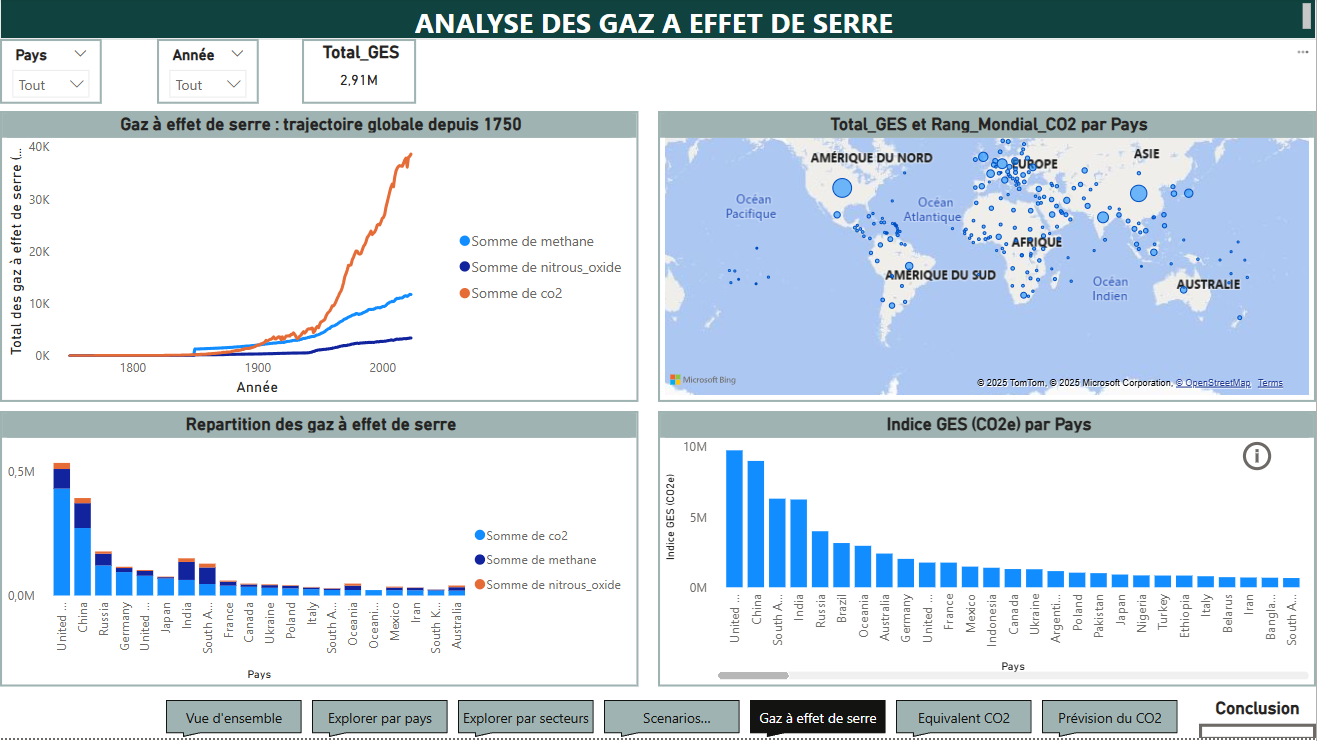

This screenshot's page, from the dashboard's own definition file:
{"tool":"powerbi","page":{"name":"Gaz à effet de serre","canvas":[1280,720],"ordinal":4},"visuals":[{"type":"lineChart","title":"Gaz à effet de serre : trajectoire globale depuis 1750","fields":{"Category":["Data.Année"],"Y":["Sum(Data.methane)","Sum(Data.nitrous_oxide)","Sum(Data.co2)"]},"box":[0,109.9,620.5,283],"z":0},{"type":"clusteredColumnChart","fields":{"Category":["Data.Pays"],"Y":["DAX.Indice GES (CO2e)"]},"box":[640,401.7,640,268.4],"z":0,"group":"g1"},{"type":"textbox","box":[0,0,1280,39.9],"z":1000},{"type":"actionButton","box":[1204.3,426.8,42.8,37],"z":1000,"group":"g1"},{"type":"slicer","fields":{"Values":["Data.Pays"]},"box":[0,39.9,99.2,63.2],"z":2000},{"type":"columnChart","title":"Repartition des gaz à effet de serre","fields":{"Category":["Data.Pays"],"Y":["Sum(Data.co2)","Sum(Data.methane)","Sum(Data.nitrous_oxide)"]},"box":[0,401.7,620.5,268.4],"z":3000},{"type":"slicer","fields":{"Values":["Data.Année"]},"box":[152.7,39.9,99.2,63.2],"z":4000},{"type":"card","title":"Total_GES","fields":{"Values":["DAX.Total_GES"]},"box":[293.7,39.9,110.9,63.2],"z":5000},{"type":"map","fields":{"Category":["Data.Pays"],"Size":["DAX.Total_GES"]},"box":[640,109.9,640,283],"z":6000},{"type":"group","id":"g1","title":"Groupe 1","box":[640,401.7,640,268.4],"z":7000},{"type":"pageNavigator","box":[161.5,682.8,988.2,37],"z":8000},{"type":"actionButton","title":"Conclusion","box":[1166.4,680.6,113.9,39.8],"z":9000}]}

Visuals, with their boxes in screenshot pixels (x1, y1, x2, y2), scaled from the page's 1280x720 canvas onto the 1317x741 screenshot:
"Gaz à effet de serre : trajectoire globale depuis 1750" lineChart: box=[0, 113, 638, 404]
clusteredColumnChart - Data.Pays x DAX.Indice GES (CO2e): box=[658, 413, 1316, 690]
textbox: box=[0, 0, 1316, 41]
actionButton: box=[1239, 439, 1283, 477]
slicer - Data.Pays: box=[0, 41, 102, 106]
"Repartition des gaz à effet de serre" columnChart: box=[0, 413, 638, 690]
slicer - Data.Année: box=[157, 41, 259, 106]
"Total_GES" card: box=[302, 41, 416, 106]
map - Data.Pays x DAX.Total_GES: box=[658, 113, 1316, 404]
"Groupe 1" group: box=[658, 413, 1316, 690]
pageNavigator: box=[166, 703, 1183, 740]
"Conclusion" actionButton: box=[1200, 700, 1316, 740]
